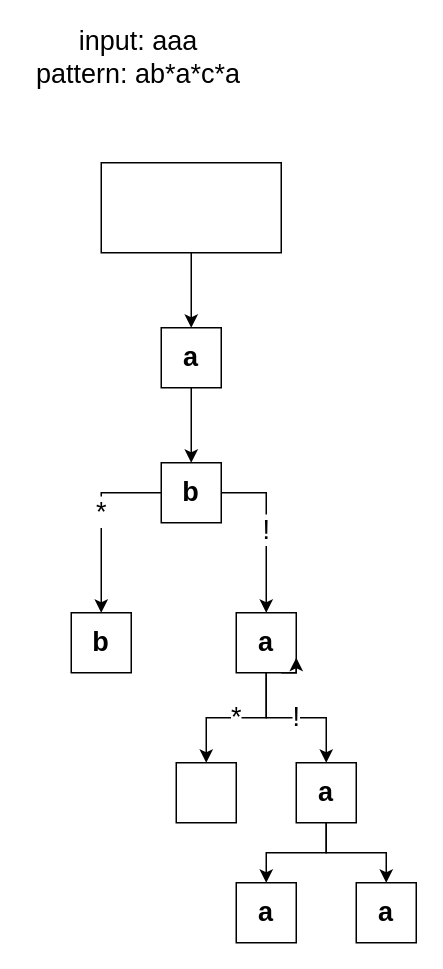
Image size: 443x969. Some labels were removed from this diagram. Here are the shapes that lost their labels. From the top down, the centre of each, then its label:
At (190,207): "ab*a*c*a".
At (205,792): "aa".
